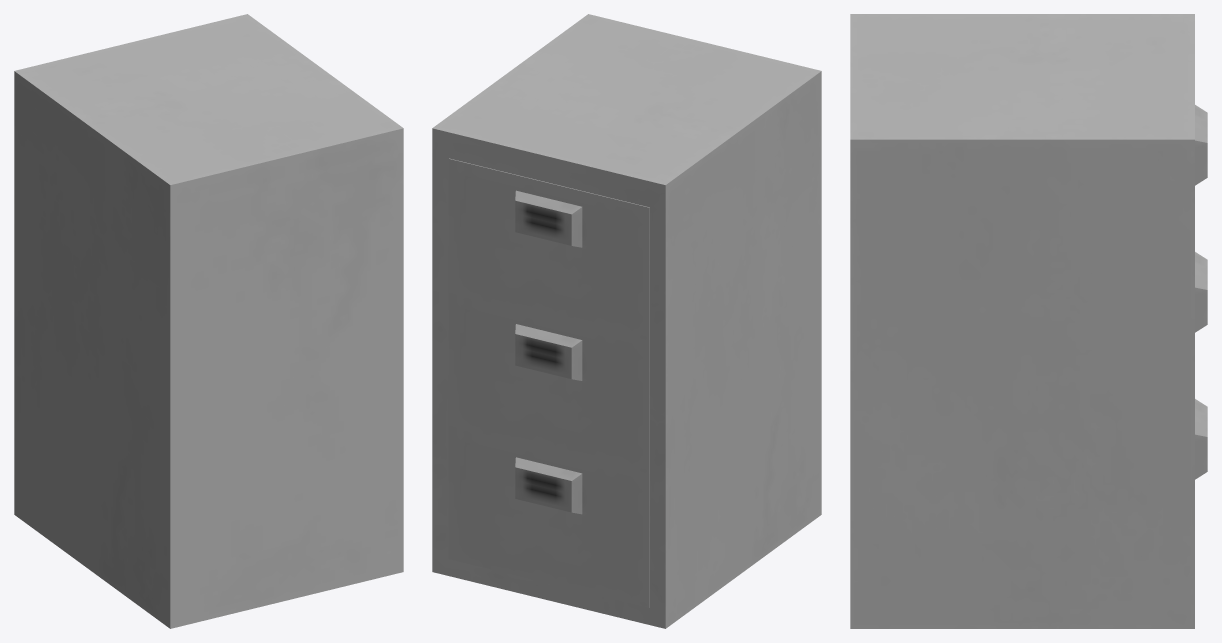
The model's file is Pfb_FileCabient_M4.fbx.
3 views of the same model, side by side, from view 1: azimuth 30°, elevation 25°; view 2: azimuth 150°, elevation 25°; view 3: azimuth 270°, elevation 25° (orthographic). The views are drawn at different scales.
Visible parts, largest first — view 1: Mat_FileCabient 1; view 2: Mat_FileCabient 1; view 3: Mat_FileCabient 1.
Part boxes in pixels (x1=…): Mat_FileCabient 1: x1=14, y1=14, x2=403, y2=628; Mat_FileCabient 1: x1=432, y1=14, x2=821, y2=628; Mat_FileCabient 1: x1=850, y1=14, x2=1207, y2=628.
Bounding box in the file's own units: 0.6634 × 1.21 × 0.7971.
Materials: 1 (1 with a texture image).
